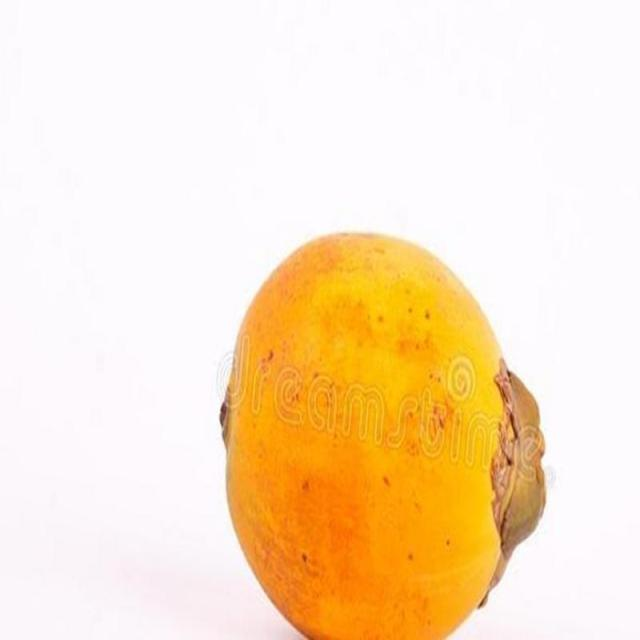good: (218, 233, 546, 639)
